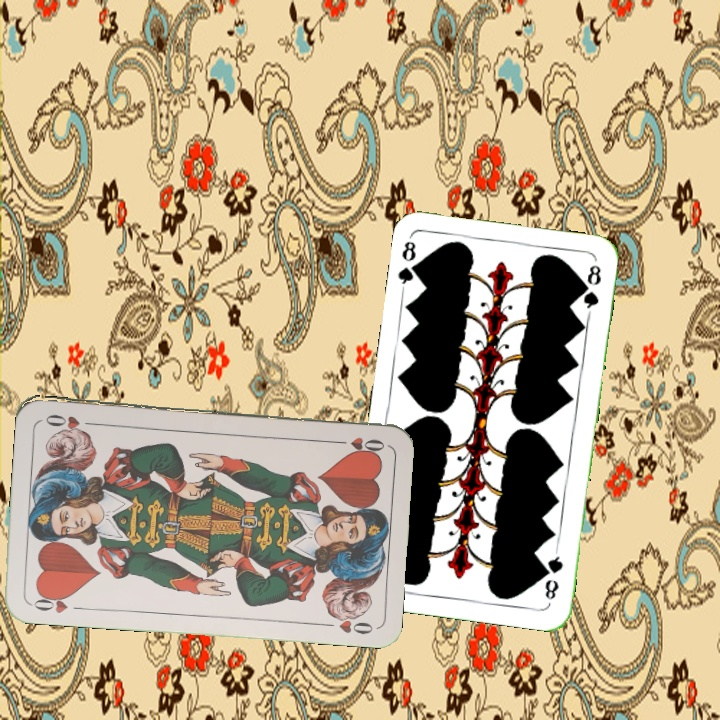G8: (394, 234, 423, 293), (541, 546, 566, 602)
HO: (27, 589, 86, 616), (329, 433, 387, 453)
